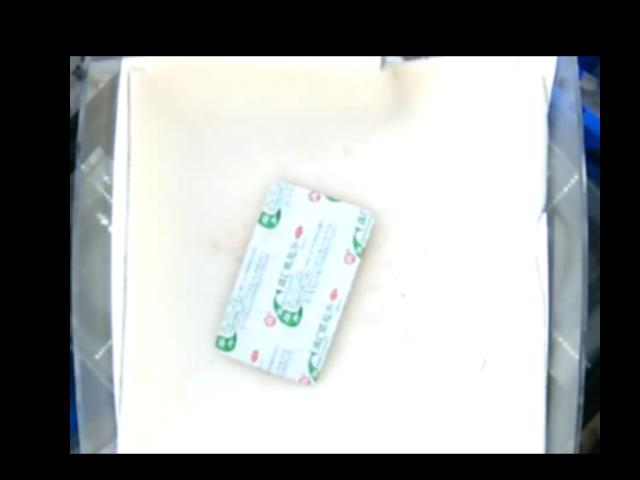Medicine: (213, 179, 373, 383)
